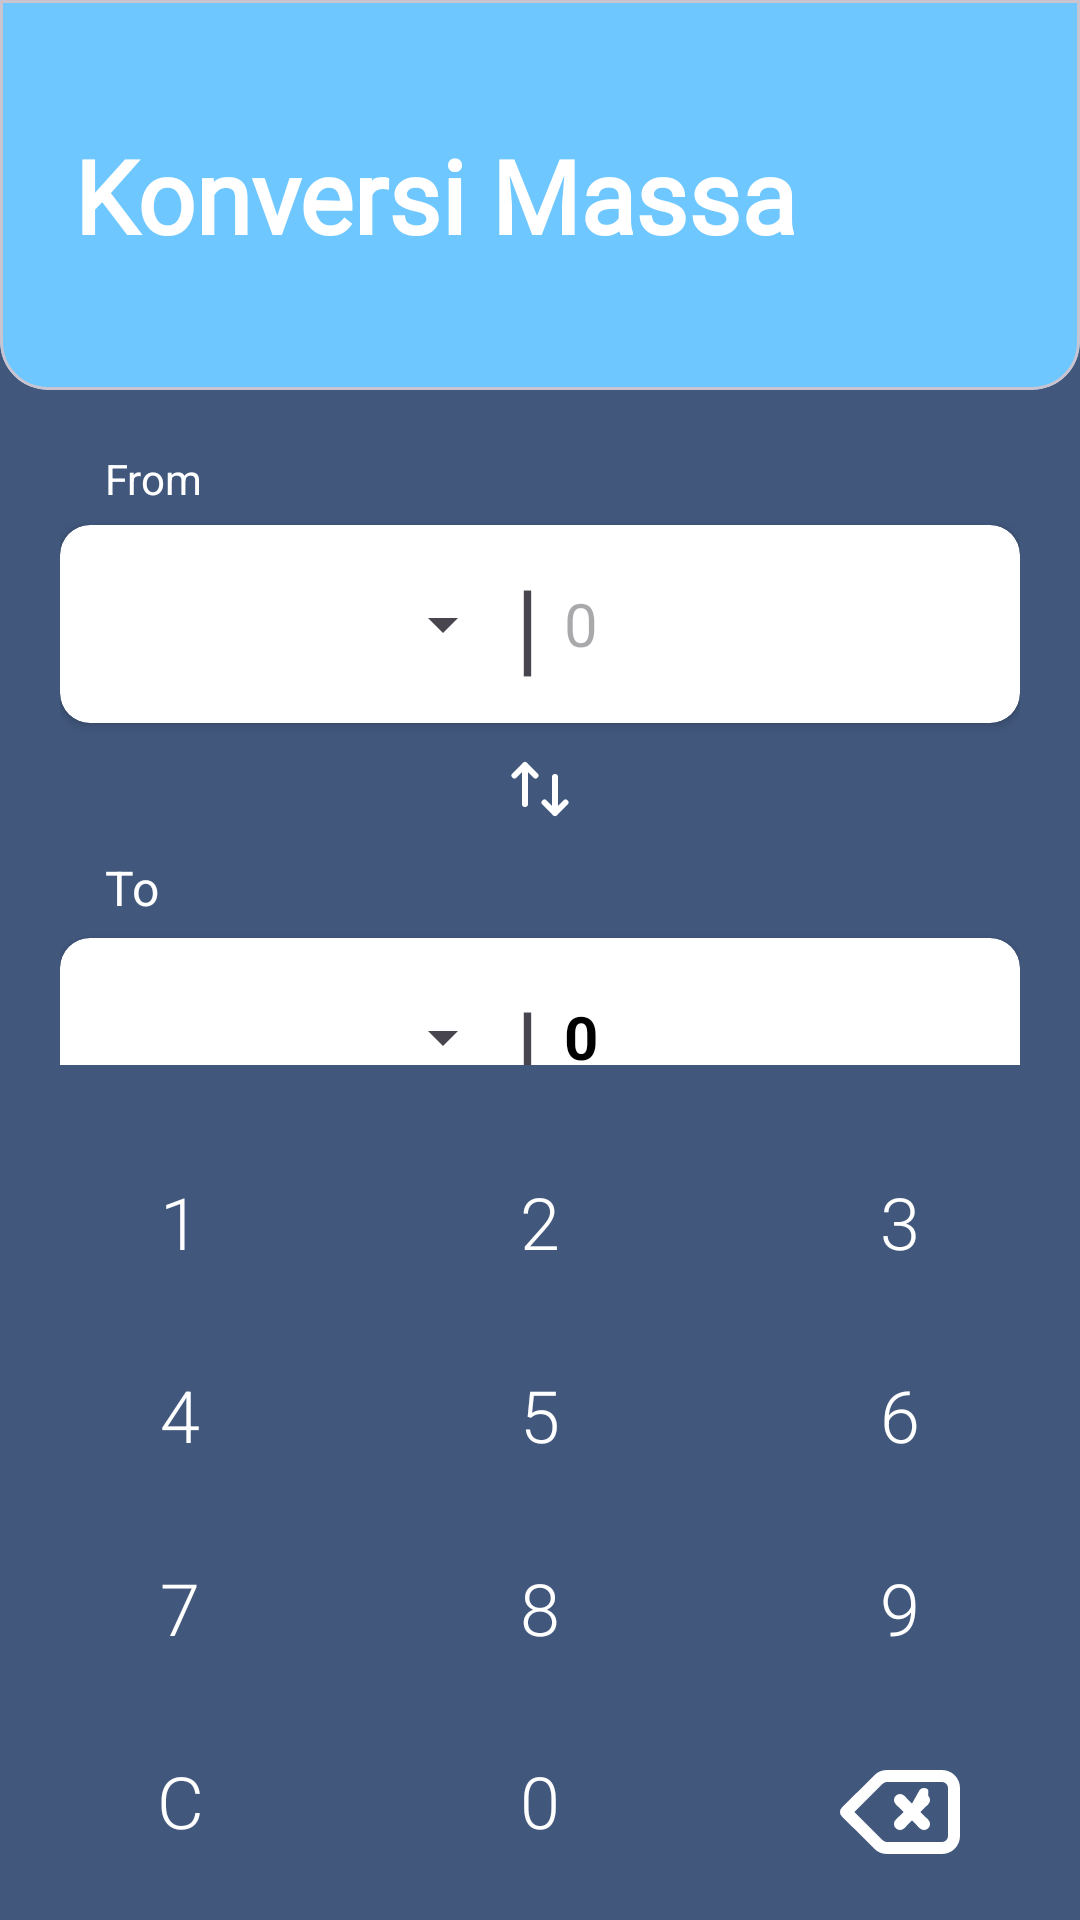

Locate icon controls on the screen. Image size 1080x1920, boxes as (x1, y1, x2, y2).
arrows: (511, 762, 569, 816)
Hapus: (840, 1770, 960, 1854)
